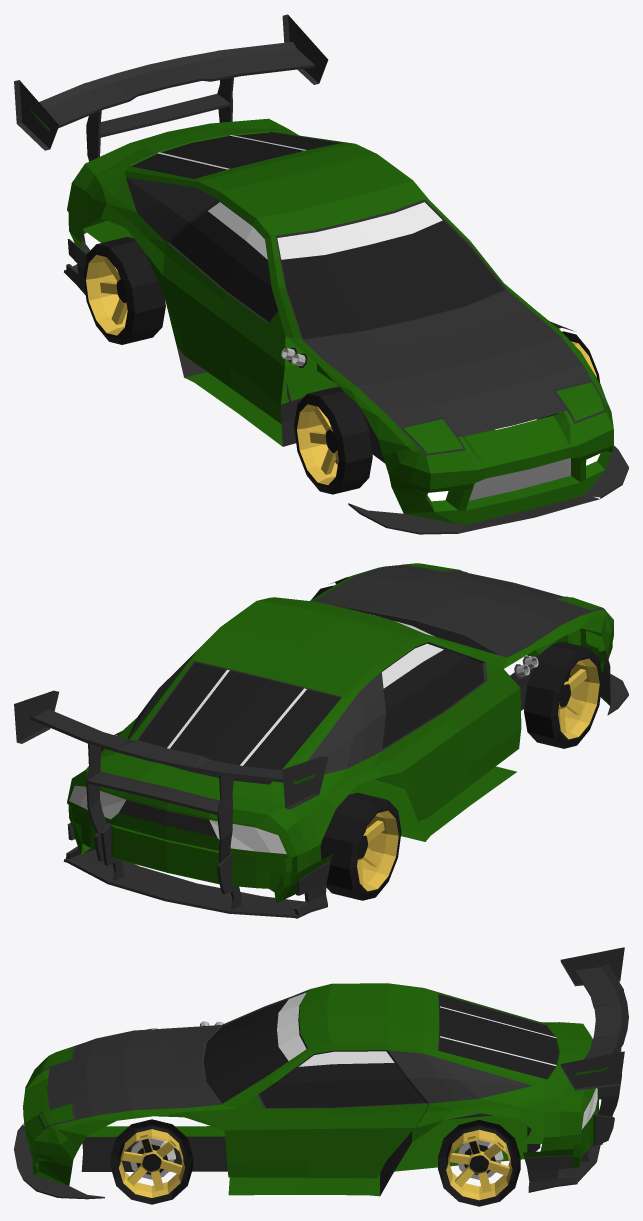
The picture shows the model from 3 angles, top to bottom: view 1: azimuth 30°, elevation 25°; view 2: azimuth 150°, elevation 25°; view 3: azimuth 270°, elevation 25°; orthographic projection. The views are drawn at different scales.
Parts seen in each view (by area): view 1: Body_4, Wheel.Bk.R_12, Wheel.Ft.R_8; view 2: Body_4, Wheel.Bk.R_12, Wheel.Ft.R_8; view 3: Body_4, Wheel.Bk.L_10, Wheel.Ft.L_6, WheelBrake.Ft.L_14, WheelBrake.Bk.L_18.
Boxes of the visible parts, x1,y1,x2,y2 form: Body_4: (14, 14, 628, 534); Wheel.Bk.R_12: (83, 237, 165, 344); Wheel.Ft.R_8: (294, 387, 372, 494); Body_4: (14, 563, 628, 918); Wheel.Bk.R_12: (320, 792, 401, 900); Wheel.Ft.R_8: (524, 641, 602, 748); Body_4: (14, 947, 628, 1199); Wheel.Bk.L_10: (438, 1120, 520, 1206); Wheel.Ft.L_6: (110, 1119, 193, 1204); WheelBrake.Ft.L_14: (130, 1138, 175, 1179); WheelBrake.Bk.L_18: (458, 1140, 503, 1179).
Bounding box in the file's own units: 2.07 × 1.41 × 5.07.
